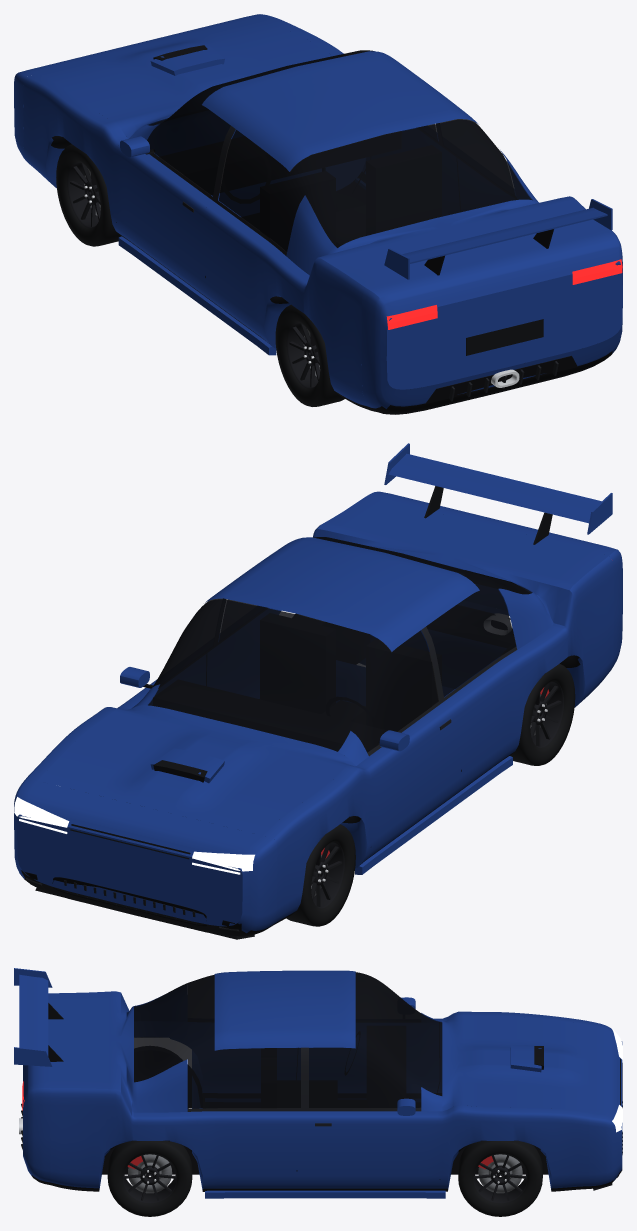
3 renders of one model, top to bottom at view 1: azimuth 30°, elevation 25°; view 2: azimuth 150°, elevation 25°; view 3: azimuth 270°, elevation 25°, orthographic. The views are drawn at different scales.
Visible parts, largest first — view 1: body, glass, bumper_rear, bumper_front, hood, wheel_RL, wheel_FL, spoiler, interior_low, skirts, lights_rear; view 2: body, glass, bumper_front, hood, spoiler, wheel_FL, wheel_RL, bumper_rear, interior_low, lights_front, skirts; view 3: body, glass, hood, bumper_front, wheel_RR, wheel_FR, spoiler, bumper_rear, skirts, brake_FR, brake_RR, interior_low (+1 smaller).
Boxes of the visible parts, x1,y1,x2,y2 form: body: (23,17,608,411); glass: (147,50,531,251); bumper_rear: (361,229,622,414); bumper_front: (14,14,622,389); hood: (38,19,332,138); wheel_RL: (275,304,344,406); wheel_FL: (56,144,121,246); spoiler: (384,199,612,279); interior_low: (159,131,441,252); skirts: (118,180,363,355); lights_rear: (386,259,622,329); body: (26,496,613,928); glass: (148,537,532,752); bumper_front: (14,564,508,939); hood: (38,705,355,835); spoiler: (384,443,612,544); wheel_FL: (286,824,355,926); wheel_RL: (510,663,575,765); bumper_rear: (367,491,622,673); interior_low: (153,613,441,752); lights_front: (14,797,254,874); skirts: (355,756,512,874); body: (50,970,589,1191); glass: (134,972,442,1108); hood: (442,1015,589,1112); bumper_front: (589,1021,622,1190); wheel_RR: (107,1140,192,1216); wheel_FR: (458,1140,542,1216); spoiler: (14,968,63,1066); bumper_rear: (21,993,50,1184); skirts: (205,1099,445,1198); brake_FR: (478,1154,522,1193); brake_RR: (127,1154,172,1193); interior_low: (261,1026,405,1108).
Size of what is drawn, in the model's own units: 1.94 by 1.43 by 4.6.
